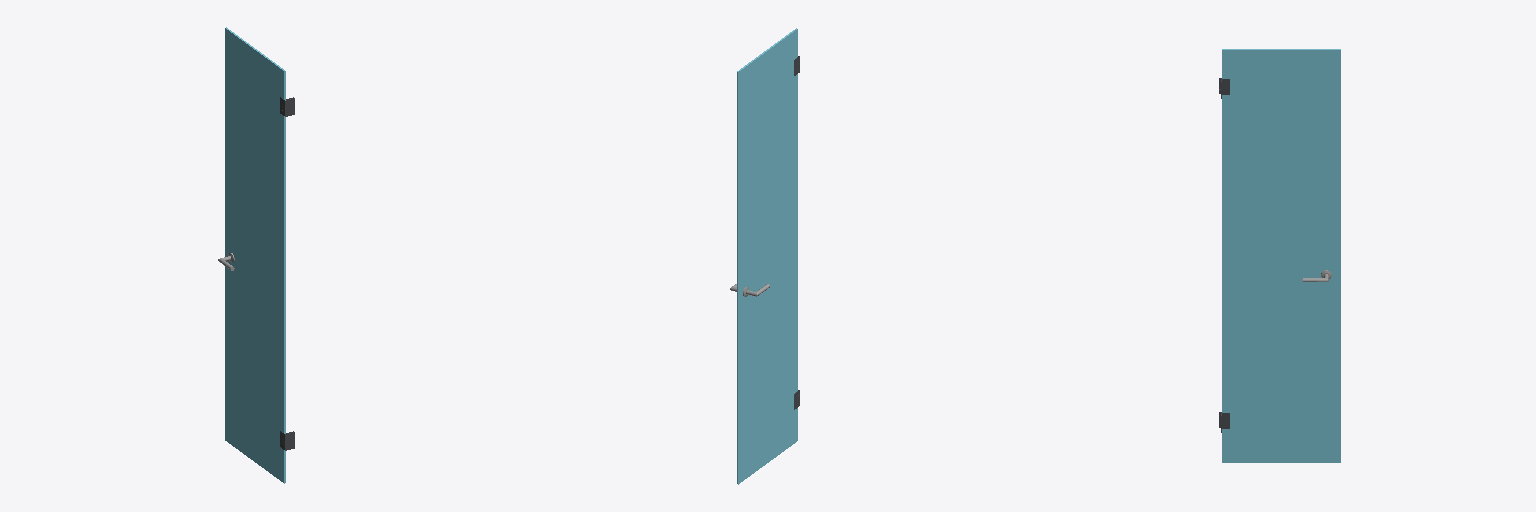
Rendered from Tuere_Dusche.obj.
3 renders of one model, left to right at view 1: azimuth 30°, elevation 25°; view 2: azimuth 150°, elevation 25°; view 3: azimuth 270°, elevation 25°, orthographic.
Parts seen in each view (by area): view 1: Mesh1 Component_776 G_22_T_re_Dusche_dwg1 Model; view 2: Mesh1 Component_776 G_22_T_re_Dusche_dwg1 Model; view 3: Mesh1 Component_776 G_22_T_re_Dusche_dwg1 Model.
Boxes of the visible parts, <box> form: Mesh1 Component_776 G_22_T_re_Dusche_dwg1 Model: <box>225,27,285,483</box>; Mesh1 Component_776 G_22_T_re_Dusche_dwg1 Model: <box>737,28,797,484</box>; Mesh1 Component_776 G_22_T_re_Dusche_dwg1 Model: <box>1222,49,1340,462</box>.
Bounding box in the file's own units: 15.86 × 229 × 61.3.